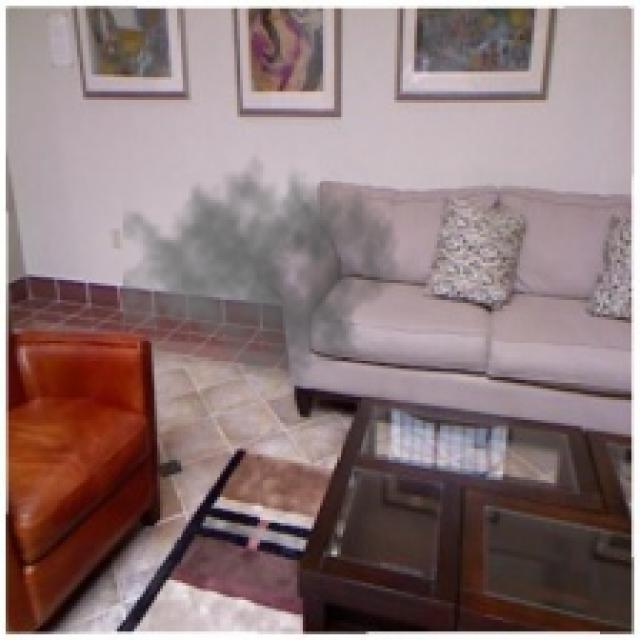smoke: (123, 143, 400, 388)
